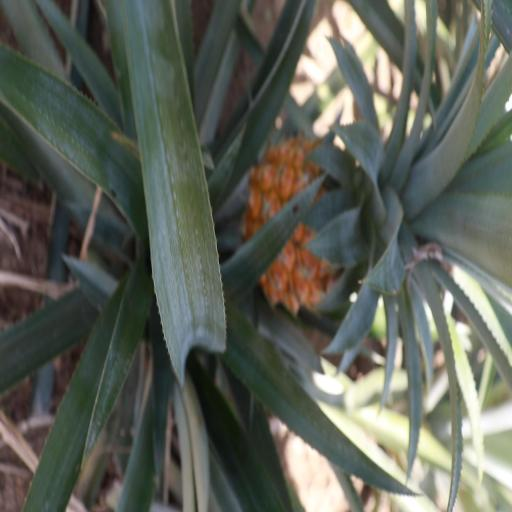Pineapple - v8 v1: (249, 121, 512, 316)
